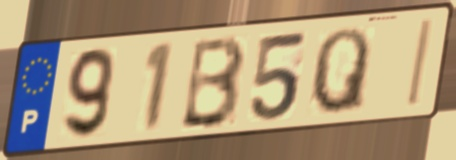1: (140, 39, 176, 137)
5: (246, 28, 309, 125)
9: (60, 46, 118, 143)
B: (176, 33, 249, 131)
I: (403, 16, 438, 111)
Q: (307, 25, 373, 117)
